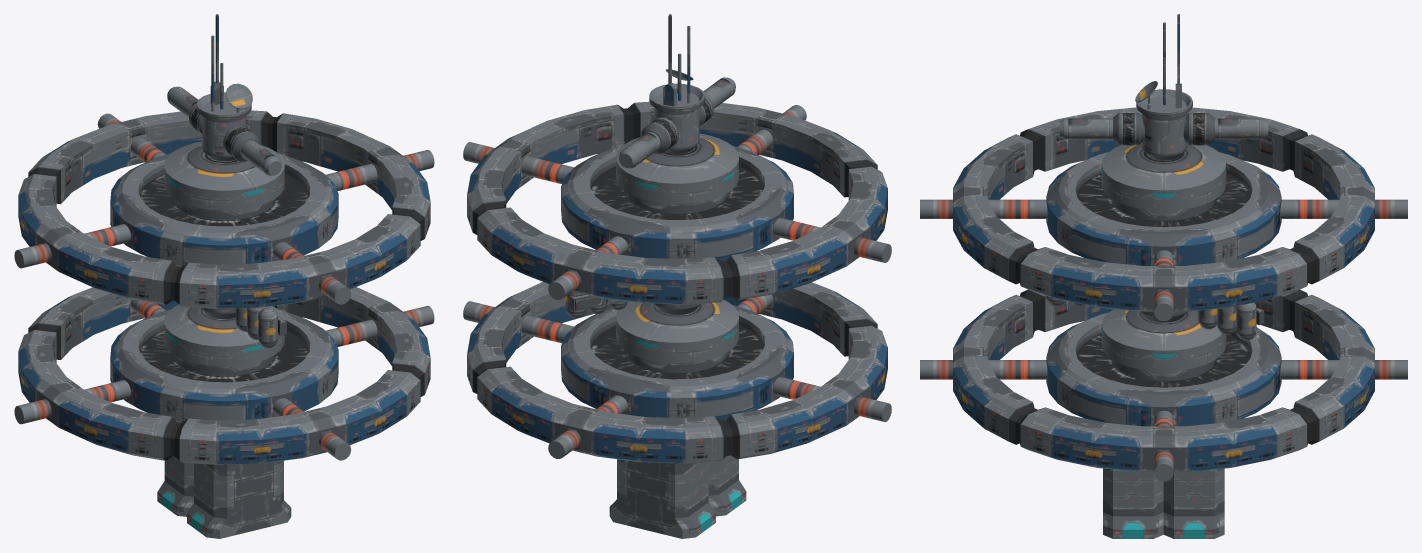
File: StationC3_sm.gltf
3 renders of one model, left to right at view 1: azimuth 30°, elevation 25°; view 2: azimuth 150°, elevation 25°; view 3: azimuth 270°, elevation 25°, orthographic. The views are drawn at different scales.
Visible parts, largest first — view 1: SpaceStation6; view 2: SpaceStation6; view 3: SpaceStation6.
Part boxes in pixels (x1,y1,x2,y2): SpaceStation6: [14, 14, 434, 538]; SpaceStation6: [463, 14, 891, 538]; SpaceStation6: [920, 14, 1407, 538].
Size of the model in its own units: 88.87 by 101 by 88.87.
1 material, 1 textured.
